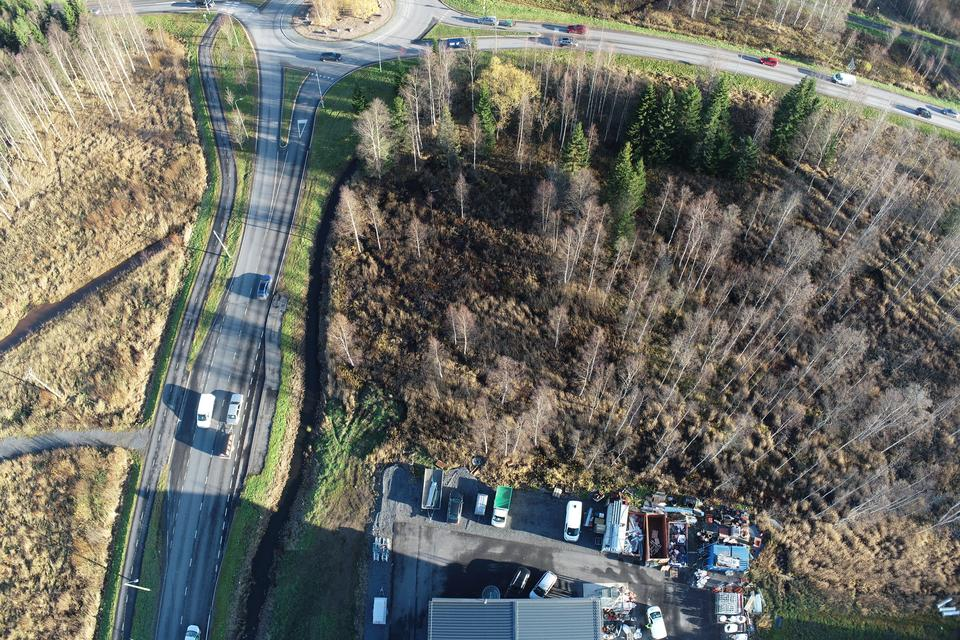intersection: (109, 400, 280, 494), (198, 0, 245, 37)
roundabout: (250, 0, 452, 87)
